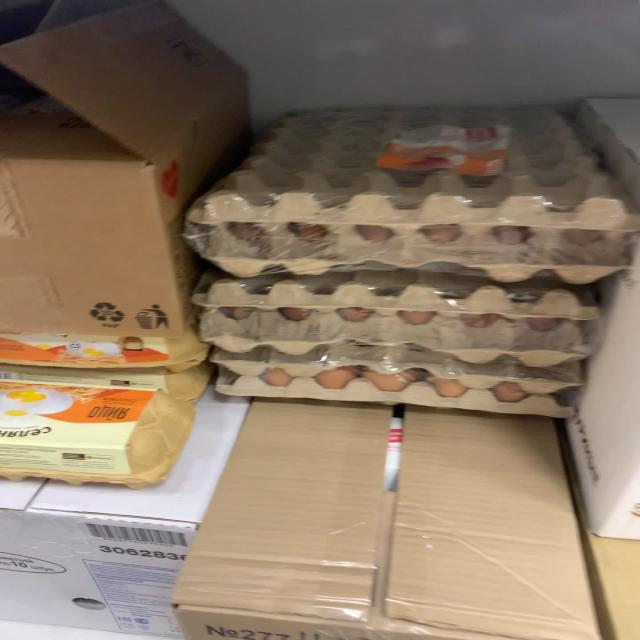egg box: (188, 100, 634, 281)
